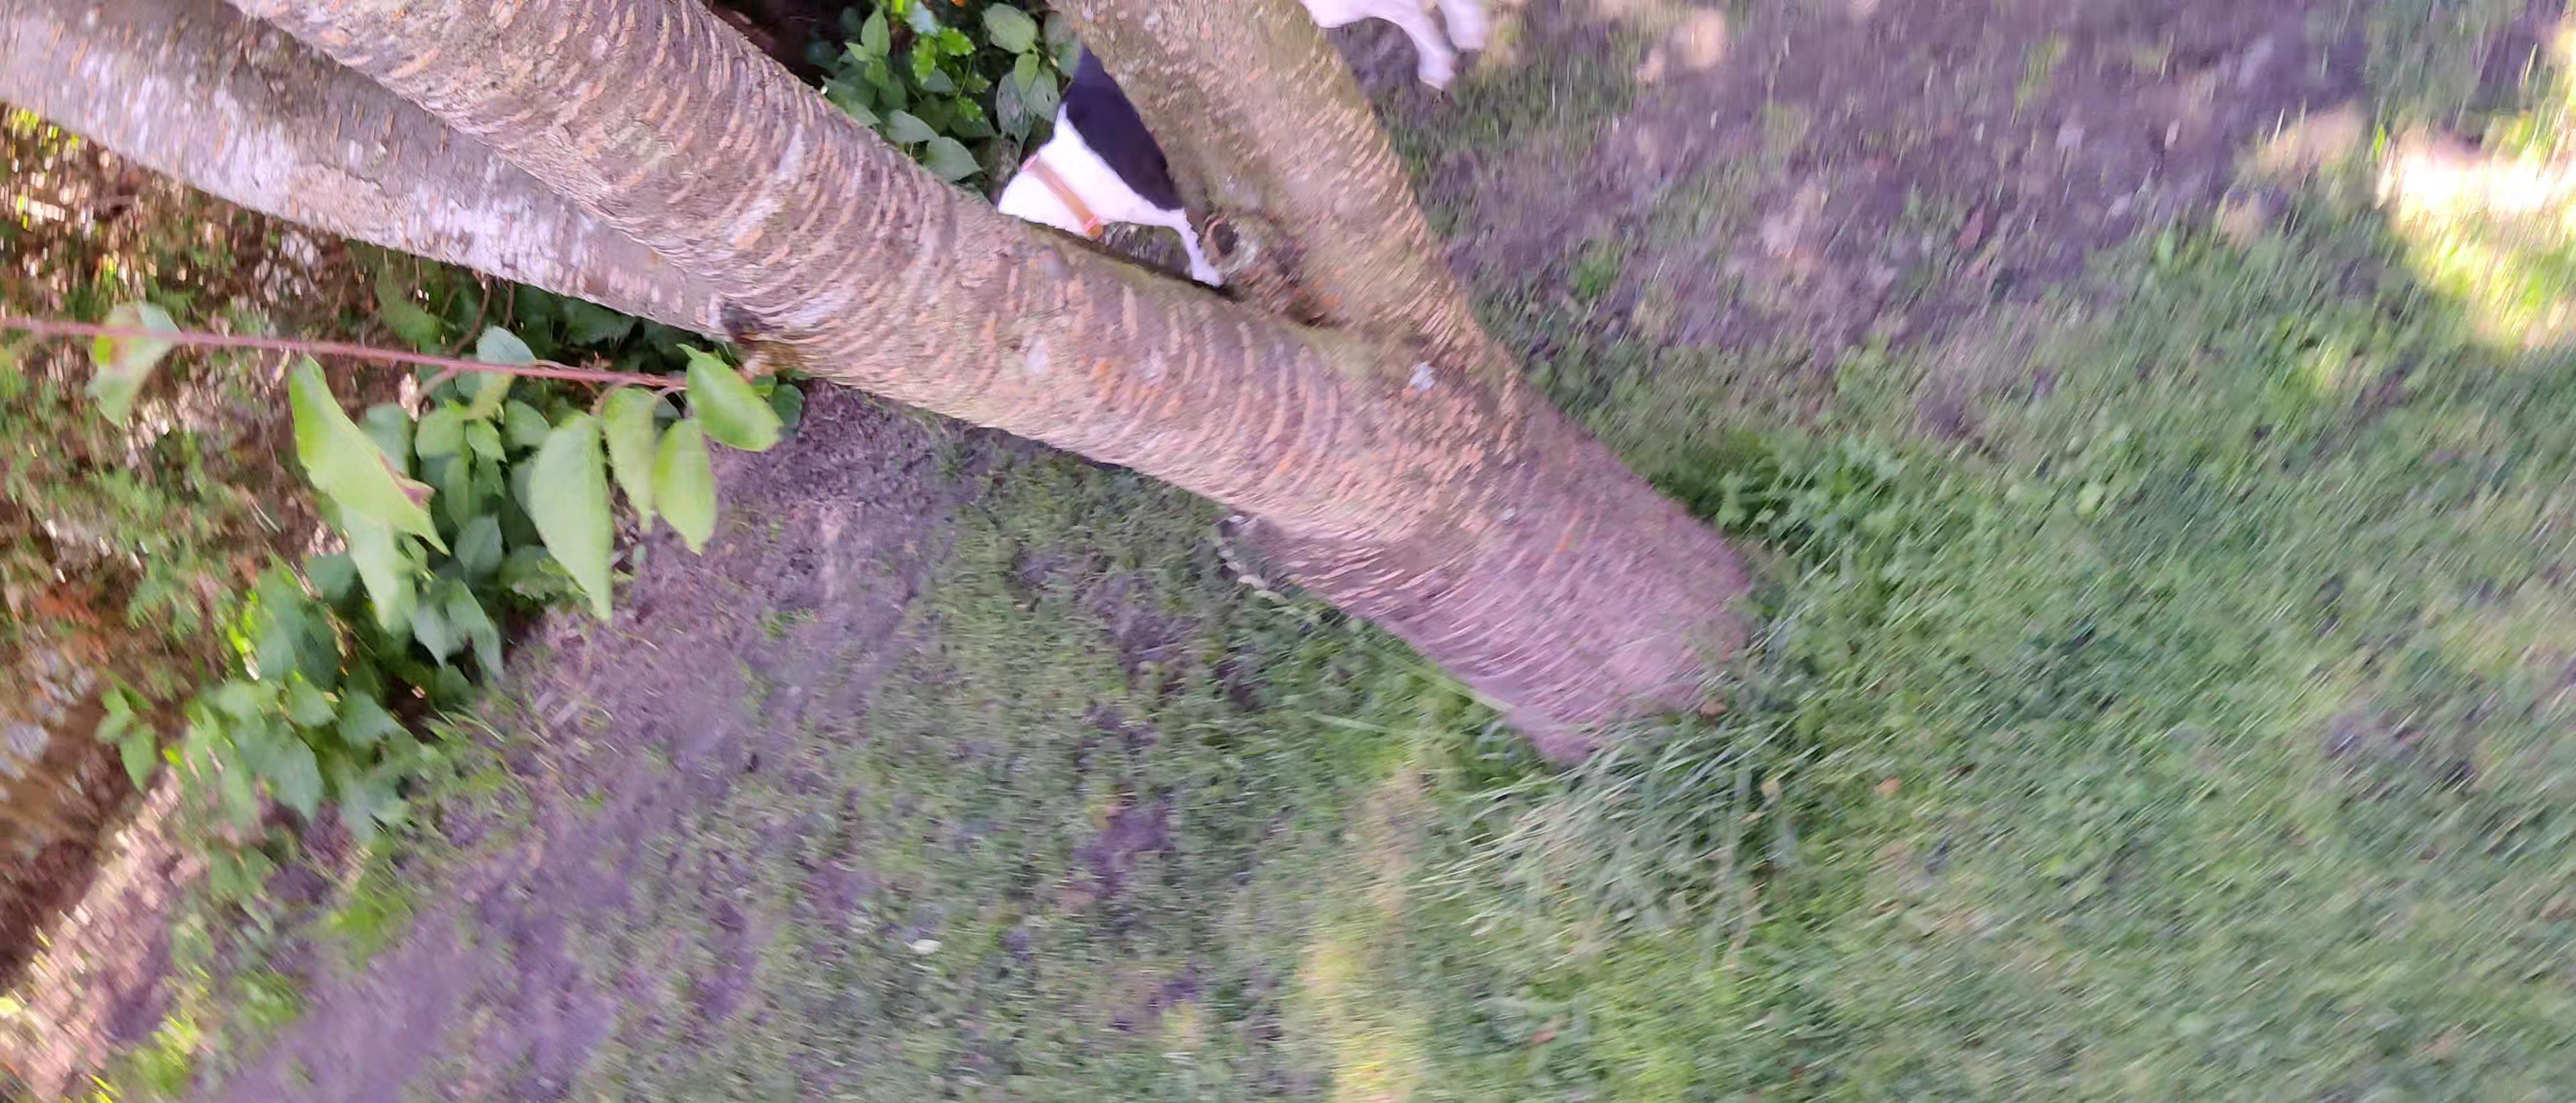Dog: (989, 0, 1490, 294)
